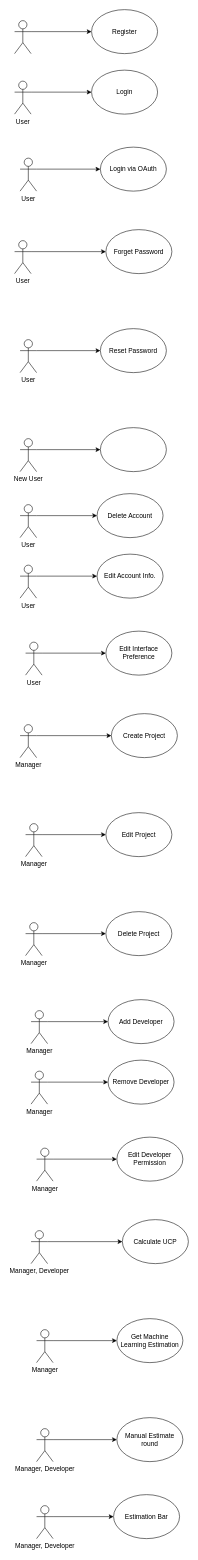
This 198x1560 diagram has some shape labels left out. Each missing label, with the centre of its shape:
Actor: point (22, 37)
Confirm account: point (133, 449)
